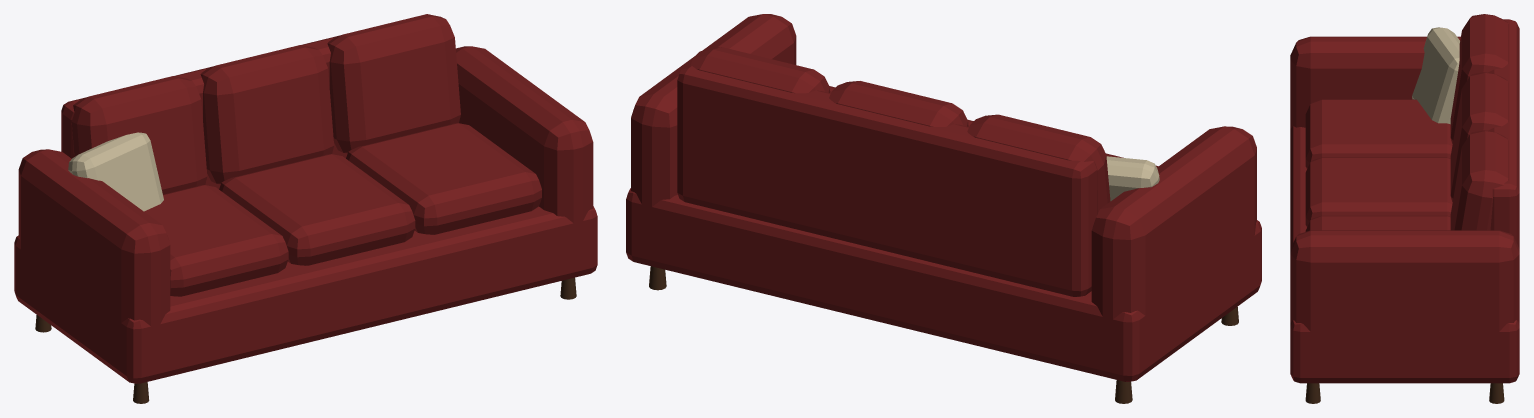
File: sofa.glb
3 views of the same model, side by side, from view 1: azimuth 30°, elevation 25°; view 2: azimuth 150°, elevation 25°; view 3: azimuth 270°, elevation 25° (orthographic). The views are drawn at different scales.
Visible parts, largest first — view 1: sofa; view 2: sofa; view 3: sofa.
Part boxes in pixels (x1,y1,x2,y2): sofa: (14,14,597,403); sofa: (626,14,1261,403); sofa: (1290,14,1519,403).
Bounding box in the file's own units: 2 × 0.9104 × 0.9.
